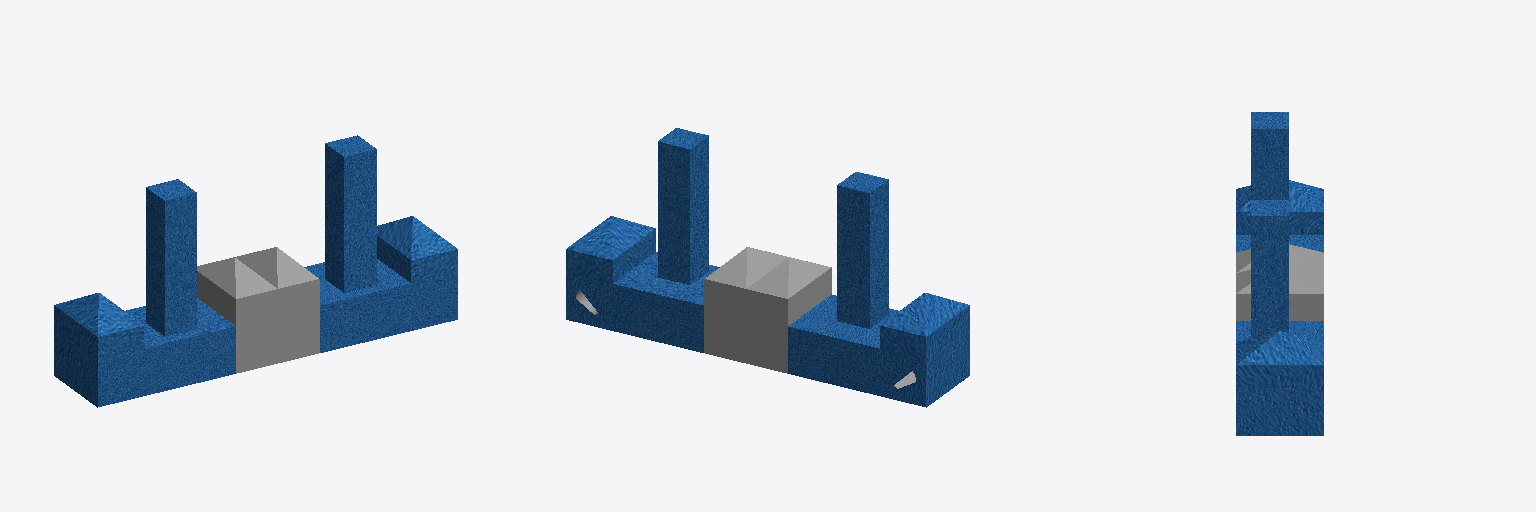
3 views of the same model, side by side, from view 1: azimuth 30°, elevation 25°; view 2: azimuth 150°, elevation 25°; view 3: azimuth 270°, elevation 25° (orthographic).
Visible parts, largest first — view 1: Cube, Cube.001; view 2: Cube, Cube.001; view 3: Cube, Cube.001.
Part boxes in pixels (left/top/right/bottom): Cube: left=54, top=216, right=457, bottom=407; Cube.001: left=146, top=135, right=376, bottom=336; Cube: left=566, top=216, right=969, bottom=407; Cube.001: left=658, top=128, right=888, bottom=328; Cube: left=1236, top=180, right=1323, bottom=435; Cube.001: left=1251, top=112, right=1288, bottom=337.
Bounding box in the file's own units: 5.94 × 2.89 × 1.24.
Materials: 3 (1 with a texture image).